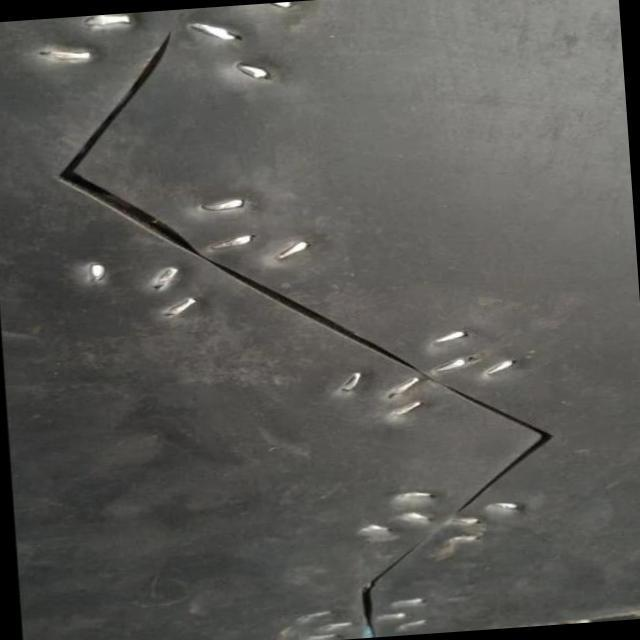Tear: (50, 24, 564, 630)
